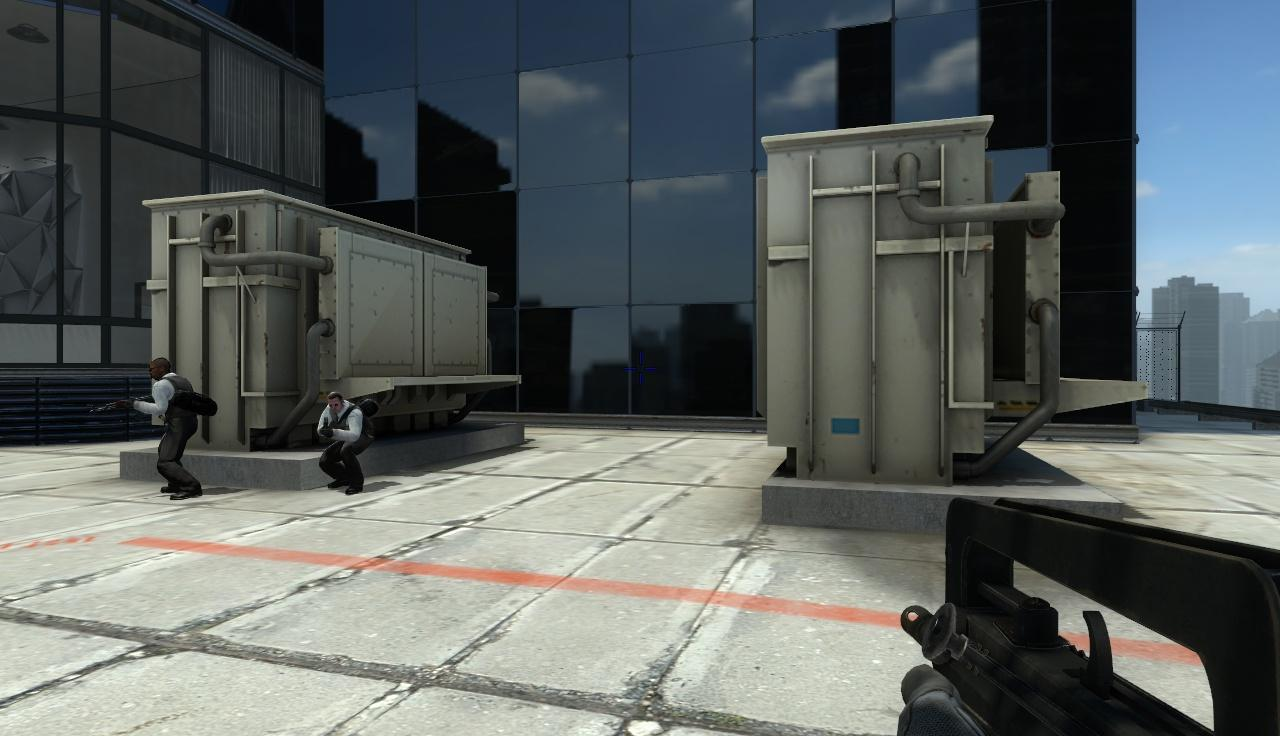rifle: (900, 506, 1280, 736)
tt: (147, 358, 203, 501), (320, 394, 369, 495)
tthead: (148, 359, 172, 380), (327, 393, 343, 412)
